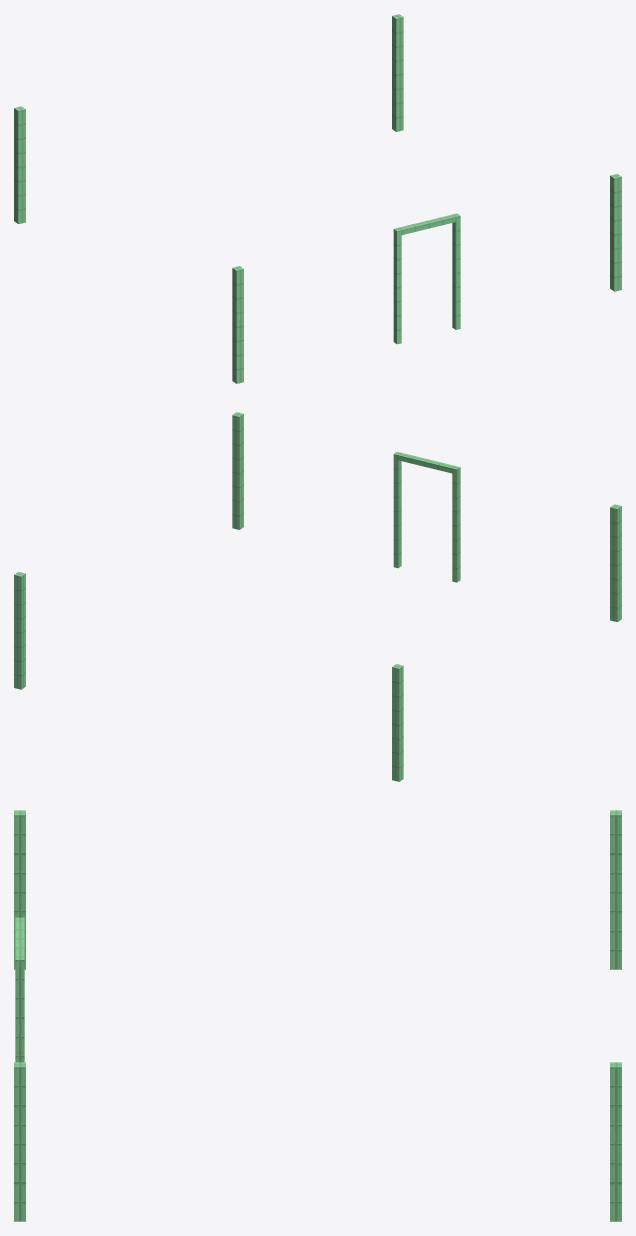
Rendered from accent-3.glb.
3 renders of one model, top to bottom at view 1: azimuth 30°, elevation 25°; view 2: azimuth 150°, elevation 25°; view 3: azimuth 270°, elevation 25°, orthographic. The views are drawn at different scales.
Visible parts, largest first — view 1: accent-3; view 2: accent-3; view 3: accent-3.
Part boxes in pixels (left/top/right/bottom): accent-3: left=14, top=14, right=621, bottom=383; accent-3: left=14, top=412, right=621, bottom=781; accent-3: left=14, top=810, right=621, bottom=1221.
Size of the model in its own units: 14.28 by 4 by 14.28.
Materials: 1 (1 with a texture image).
